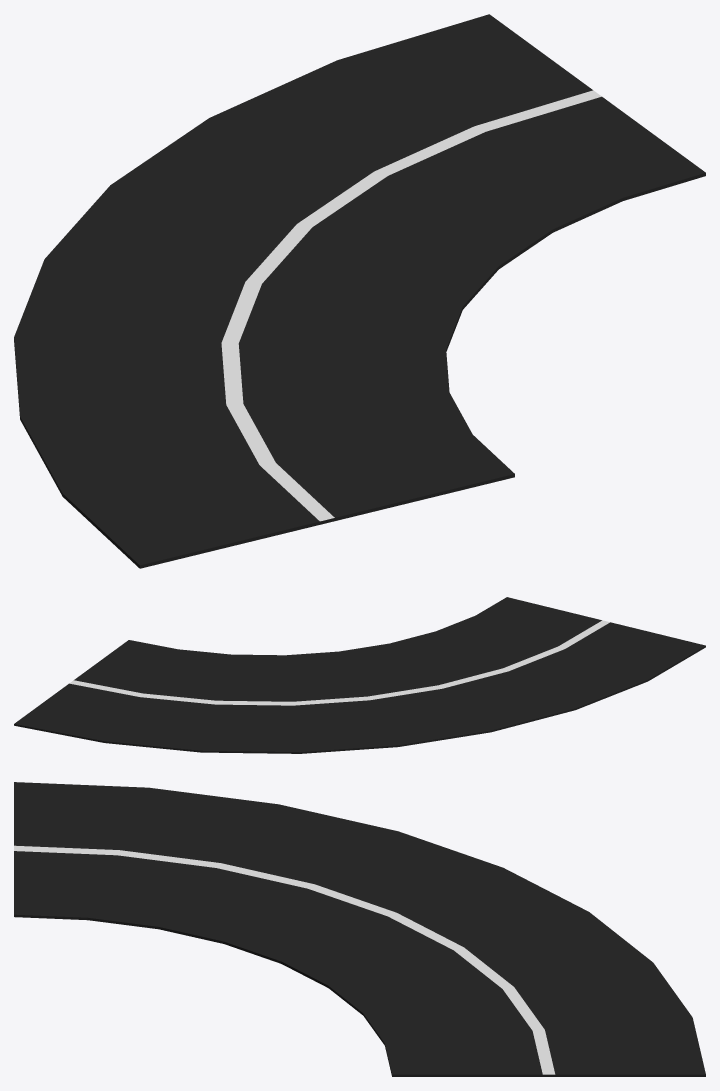
The model's file is airport_track_curve.glb.
3 views of the same model, one above another, from view 1: azimuth 30°, elevation 25°; view 2: azimuth 150°, elevation 25°; view 3: azimuth 270°, elevation 25° (orthographic). The views are drawn at different scales.
Parts seen in each view (by area): view 1: LandingTrack3Curve2; view 2: LandingTrack3Curve2; view 3: LandingTrack3Curve2.
Part boxes in pixels (x1,y1,x2,y2): LandingTrack3Curve2: [14, 14, 705, 568]; LandingTrack3Curve2: [14, 597, 705, 753]; LandingTrack3Curve2: [14, 782, 705, 1076].
Size of what is drawn, in the model's own units: 181 by 0.7 by 181.
Materials: 1 (1 with a texture image).
